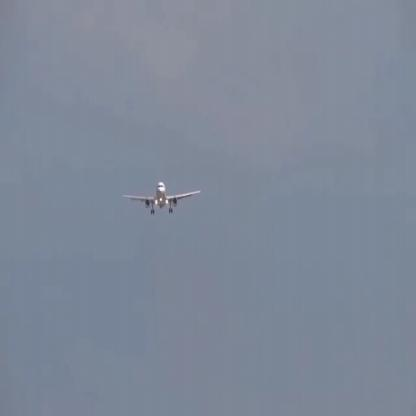CIV_Plane: (124, 183, 202, 216)
